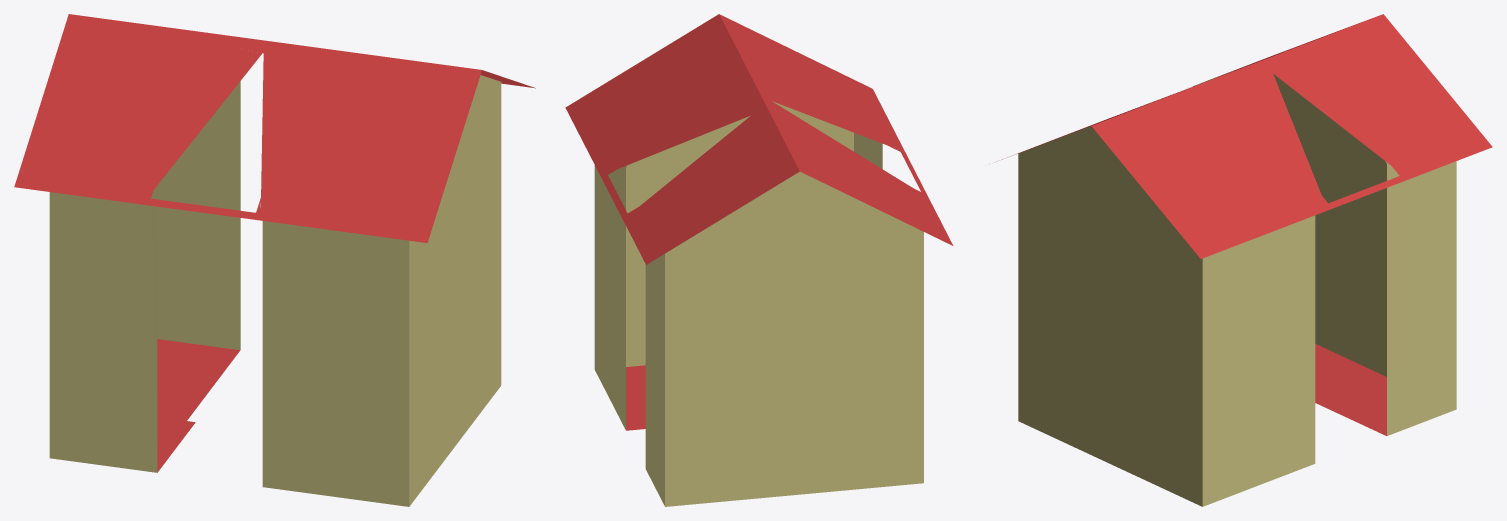
3 renders of one model, left to right at view 1: azimuth 30°, elevation 25°; view 2: azimuth 150°, elevation 25°; view 3: azimuth 270°, elevation 25°, orthographic. The views are drawn at different scales.
Visible parts, largest first — view 1: group_5, group_3, group_6, group_4; view 2: group_5, group_3, group_4, group_6; view 3: group_5, group_3, group_6, group_4.
Part boxes in pixels (box(x1,y1,x2,y2)): group_5: box(49, 75, 501, 506); group_3: box(14, 14, 535, 242); group_6: box(157, 339, 239, 472); group_4: box(14, 19, 497, 242); group_5: box(594, 101, 923, 506); group_3: box(565, 14, 953, 264); group_4: box(597, 17, 952, 264); group_6: box(626, 365, 645, 430); group_5: box(1018, 74, 1456, 506); group_3: box(996, 14, 1492, 258); group_6: box(1315, 344, 1386, 435); group_4: box(1049, 27, 1491, 227).
Size of the model in its own units: 19.74 by 19.93 by 14.86.
